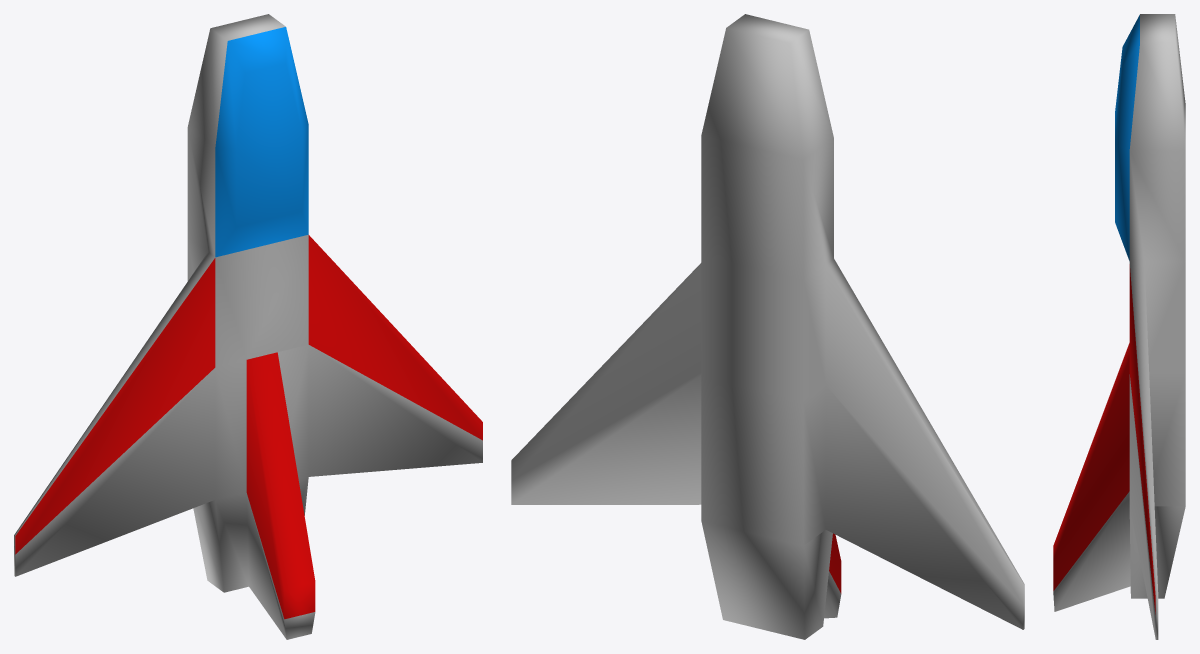
The model's file is Ship.fbx.
3 renders of one model, left to right at view 1: azimuth 30°, elevation 25°; view 2: azimuth 150°, elevation 25°; view 3: azimuth 270°, elevation 25°, orthographic. The views are drawn at different scales.
Parts seen in each view (by area): view 1: cube1; view 2: cube1; view 3: cube1.
Part boxes in pixels (x1,y1,x2,y2): cube1: [14, 14, 482, 639]; cube1: [511, 14, 1024, 639]; cube1: [1053, 14, 1185, 639].
Size of the model in its own units: 1.28 by 1.5 by 0.312.
Materials: 1 (1 with a texture image).
